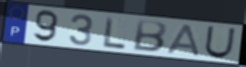3: (68, 13, 94, 46)
9: (32, 10, 60, 43)
A: (165, 23, 202, 58)
B: (131, 18, 169, 53)
L: (103, 15, 128, 50)
U: (203, 25, 238, 60)
